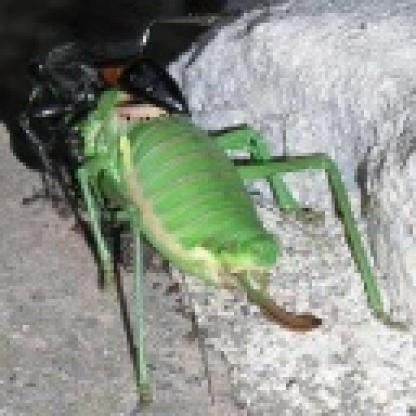grasshopper: (73, 37, 407, 392)
